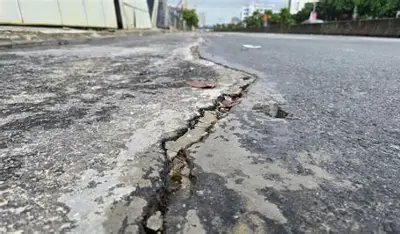ROAD_CRACK: (120, 98, 288, 187)
